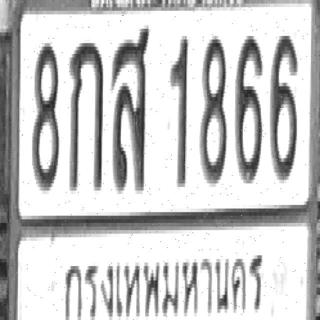A01: (68, 38, 103, 189)
A40: (110, 23, 149, 189)
N01: (169, 31, 188, 185)
N06: (234, 30, 262, 182), (270, 31, 297, 178)
N08: (31, 38, 59, 189), (199, 30, 226, 182)
P04: (59, 245, 270, 320)
